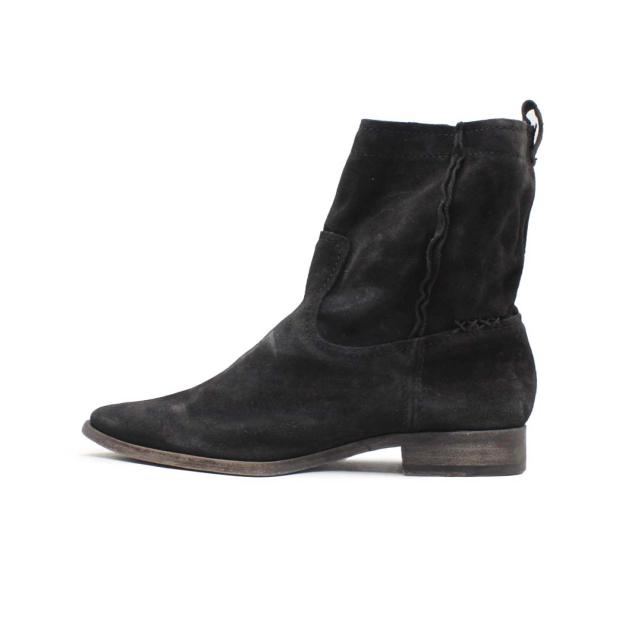heel: (418, 98, 544, 427)
midsole: (81, 421, 523, 478)
uppersole: (90, 119, 459, 457)
